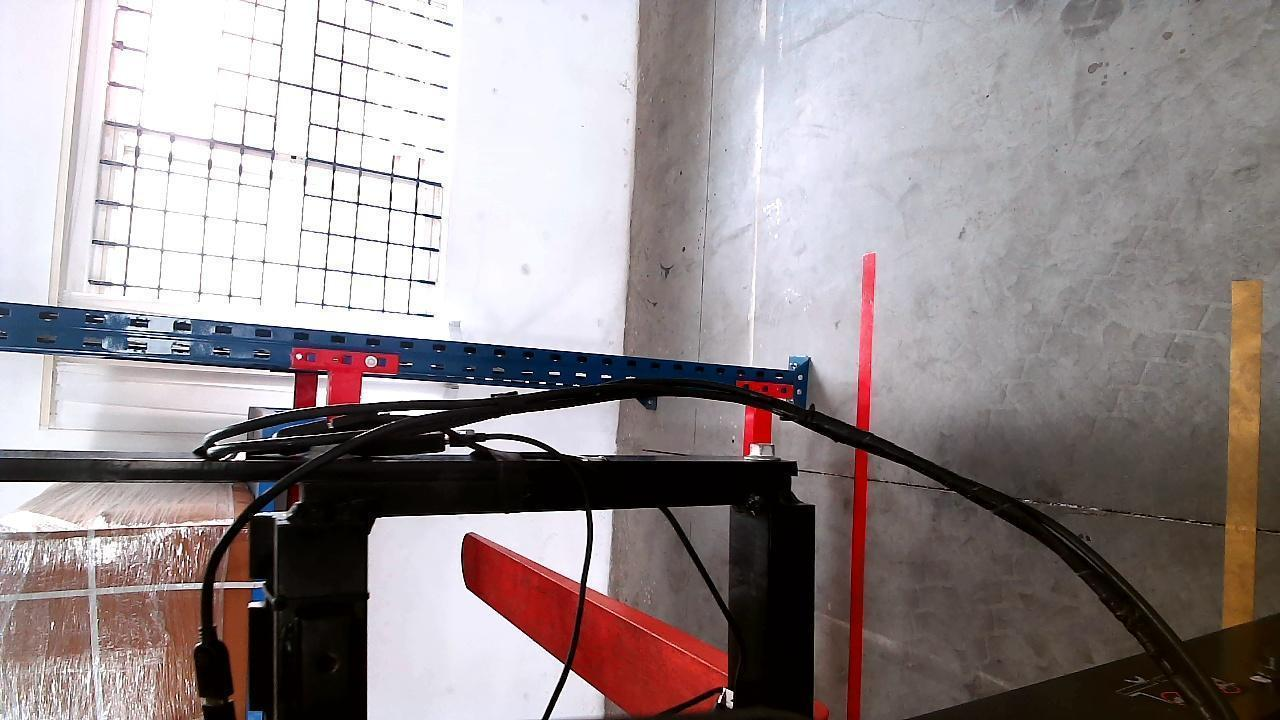red_line: (847, 251, 878, 717)
yellow_line: (1224, 275, 1261, 625)
